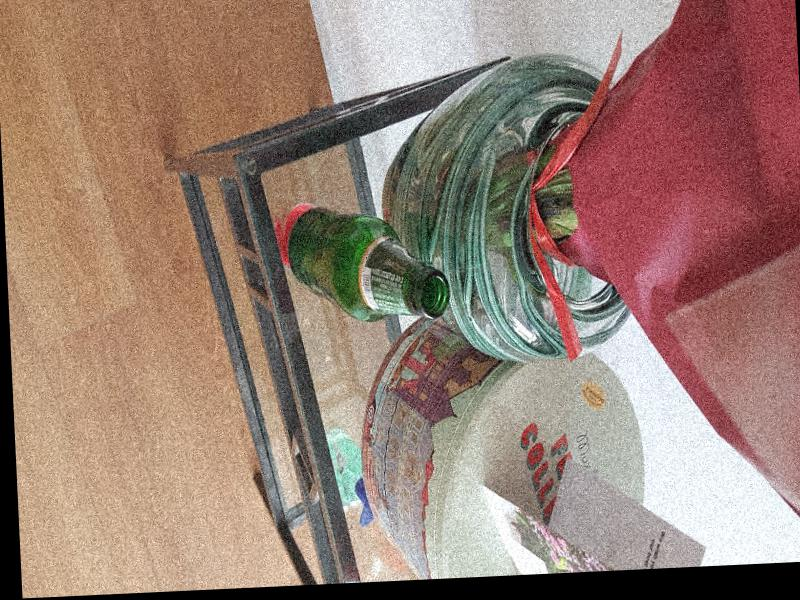Beer: (286, 200, 450, 326)
